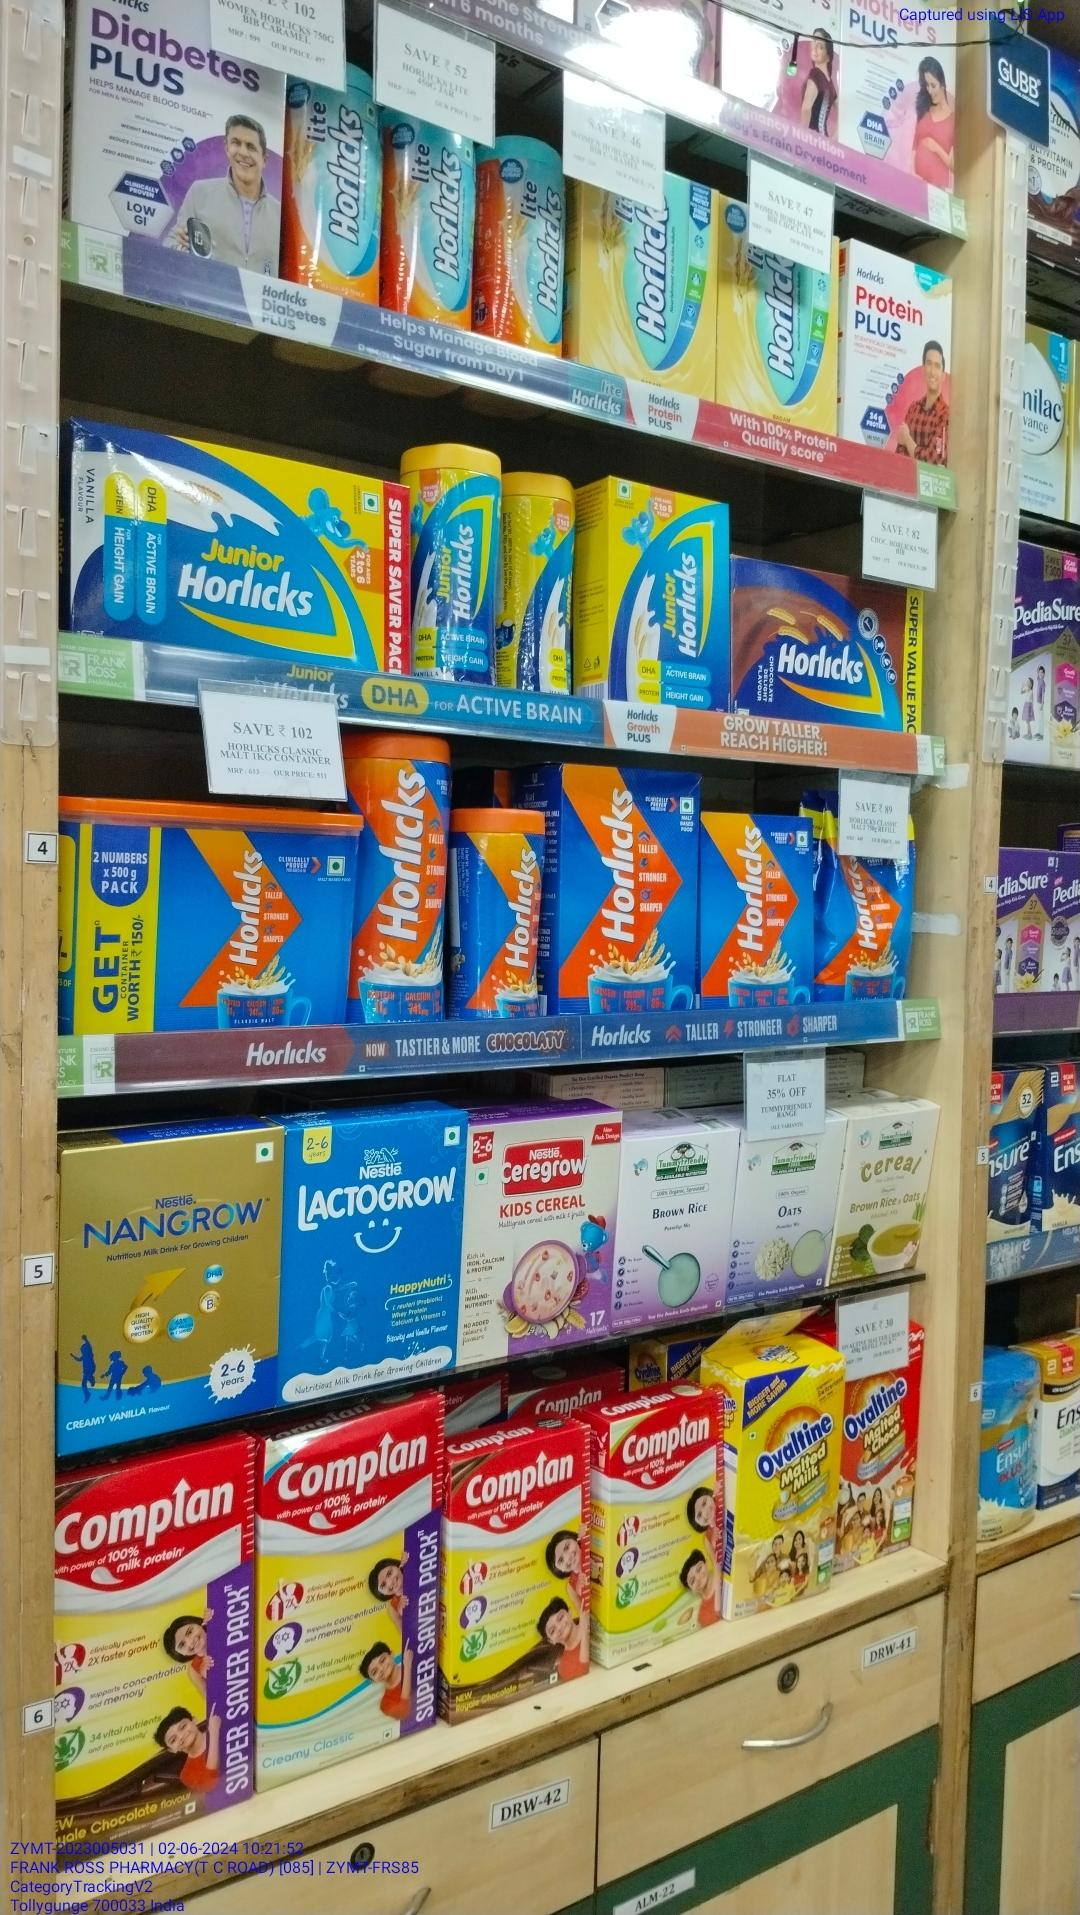HORLICKS_JUNIOR_VANILLA_500_GM_JAR: (409, 445, 499, 675)
HORLICKS_LITE_REGULAR_MALT_500_GM_JAR: (291, 50, 379, 308), (389, 96, 475, 326), (481, 139, 567, 355)
